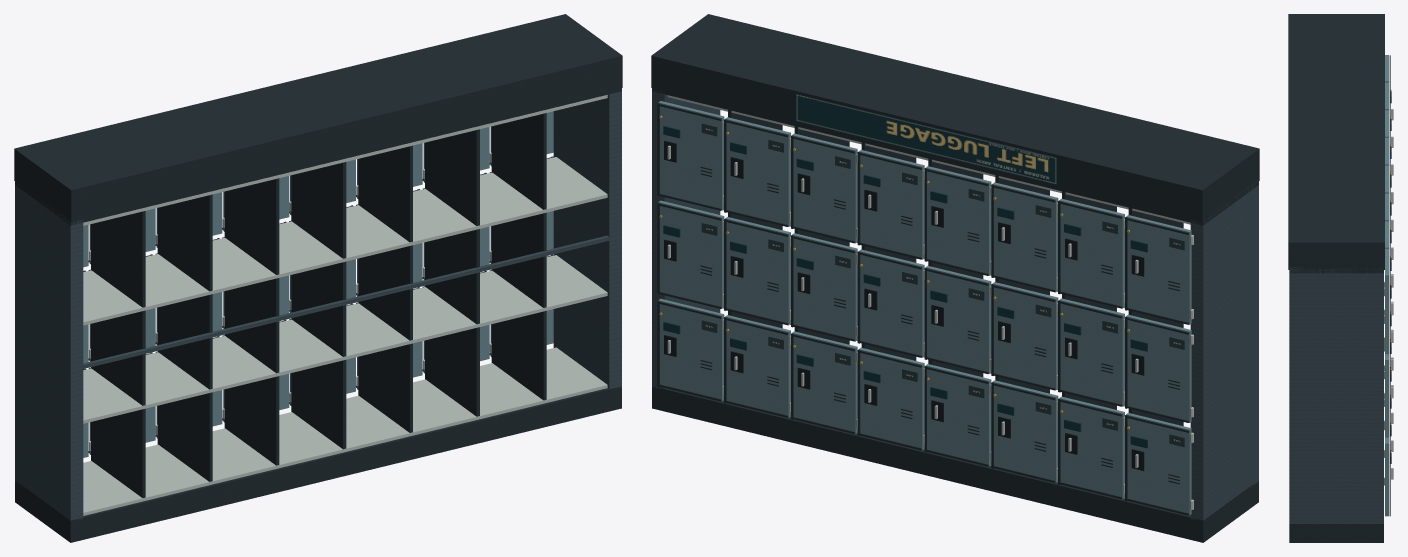
The picture shows the model from 3 angles, left to right: view 1: azimuth 30°, elevation 25°; view 2: azimuth 150°, elevation 25°; view 3: azimuth 270°, elevation 25°; orthographic projection. The views are drawn at different scales.
Visible parts, largest first — view 1: VIS_Fixed_frame, VIS_Fixed_satin, VIS_Fixed_steel, VIS_Doors_door; view 2: VIS_Doors_door, VIS_Fixed_frame, VIS_Fixed_steel, VIS_Doors_frame, VIS_Fixed_sign, VIS_Doors_dark, VIS_Doors_display, VIS_Doors_labels, VIS_Fixed_satin, VIS_Doors_satin; view 3: VIS_Fixed_frame, VIS_Fixed_steel, VIS_Doors_door, VIS_Doors_frame, VIS_Doors_satin, VIS_Doors_display.
Boxes of the visible parts, <box> form: VIS_Fixed_frame: <box>14,14,622,542</box>; VIS_Fixed_satin: <box>83,95,607,515</box>; VIS_Fixed_steel: <box>15,91,621,520</box>; VIS_Doors_door: <box>83,111,553,457</box>; VIS_Doors_door: <box>658,101,1191,515</box>; VIS_Fixed_frame: <box>651,14,1259,542</box>; VIS_Fixed_steel: <box>652,89,1258,520</box>; VIS_Doors_frame: <box>657,103,1188,515</box>; VIS_Fixed_sign: <box>795,94,1057,184</box>; VIS_Doors_dark: <box>664,140,1144,470</box>; VIS_Doors_display: <box>663,125,1147,448</box>; VIS_Doors_labels: <box>701,123,1184,447</box>; VIS_Fixed_satin: <box>667,95,1193,509</box>; VIS_Doors_satin: <box>667,145,1138,467</box>; VIS_Fixed_frame: <box>1288,14,1384,542</box>; VIS_Fixed_steel: <box>1289,267,1383,524</box>; VIS_Doors_door: <box>1385,55,1388,516</box>; VIS_Doors_frame: <box>1389,55,1390,516</box>; VIS_Doors_satin: <box>1391,109,1393,479</box>; VIS_Doors_display: <box>1390,92,1391,463</box>.
Bounding box in the file's own units: 3.88 × 2.37 × 0.757.
Materials: 9 (9 with a texture image).
